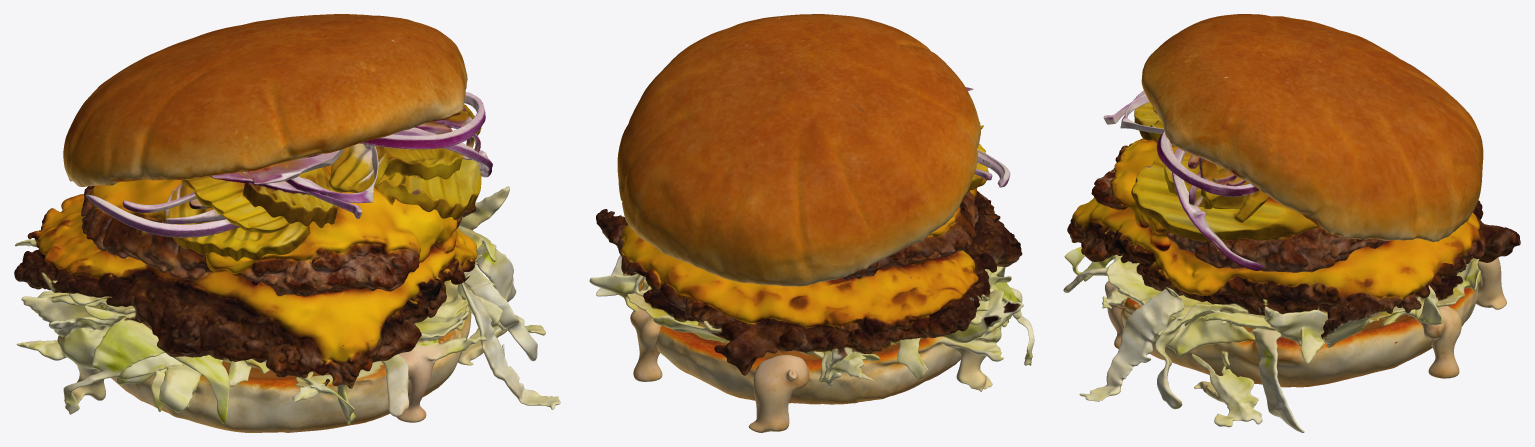
Rendered from burger-v1-texture-test.glb.
The picture shows the model from 3 angles, left to right: view 1: azimuth 30°, elevation 25°; view 2: azimuth 150°, elevation 25°; view 3: azimuth 270°, elevation 25°; orthographic projection. The views are drawn at different scales.
Size of the model in its own units: 1.9 by 1.26 by 1.78.
1 material, 1 textured.
